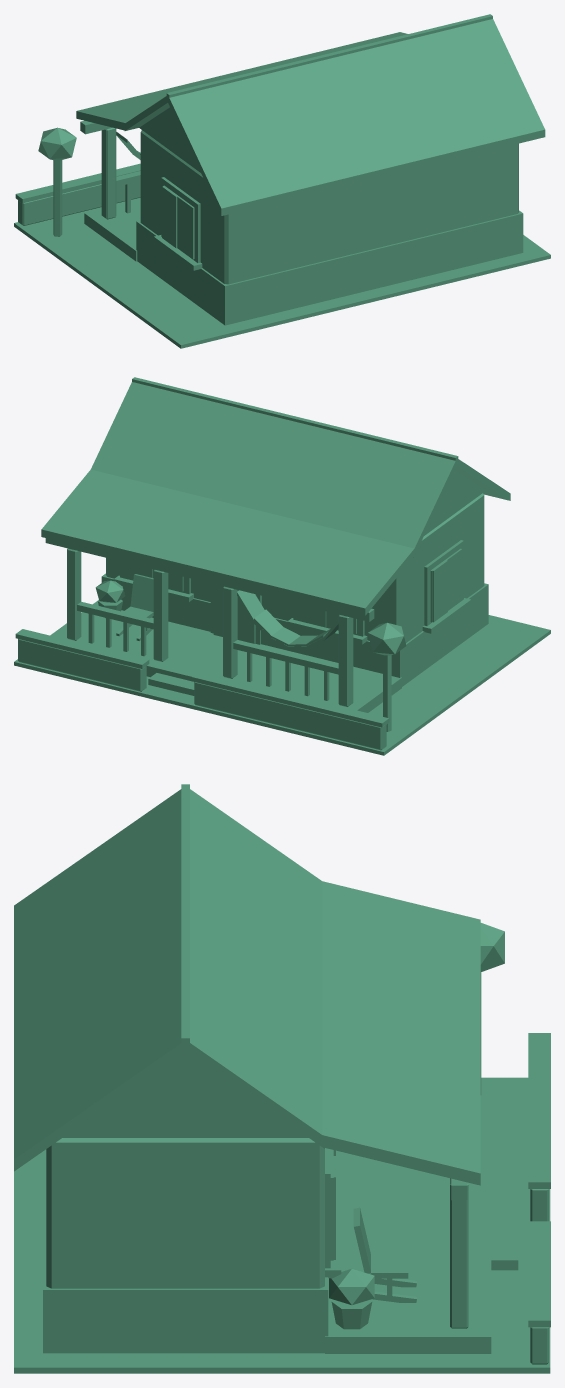
3 views of the same model, one above another, from view 1: azimuth 30°, elevation 25°; view 2: azimuth 150°, elevation 25°; view 3: azimuth 270°, elevation 25° (orthographic). The views are drawn at different scales.
Parts seen in each view (by area): view 1: corpo; view 2: corpo; view 3: corpo.
Boxes of the visible parts, left/top/right/bottom form: corpo: left=14, top=14, right=550, bottom=348; corpo: left=14, top=377, right=550, bottom=755; corpo: left=14, top=784, right=550, bottom=1373.
Bounding box in the file's own units: 1.28 × 0.68 × 1.
